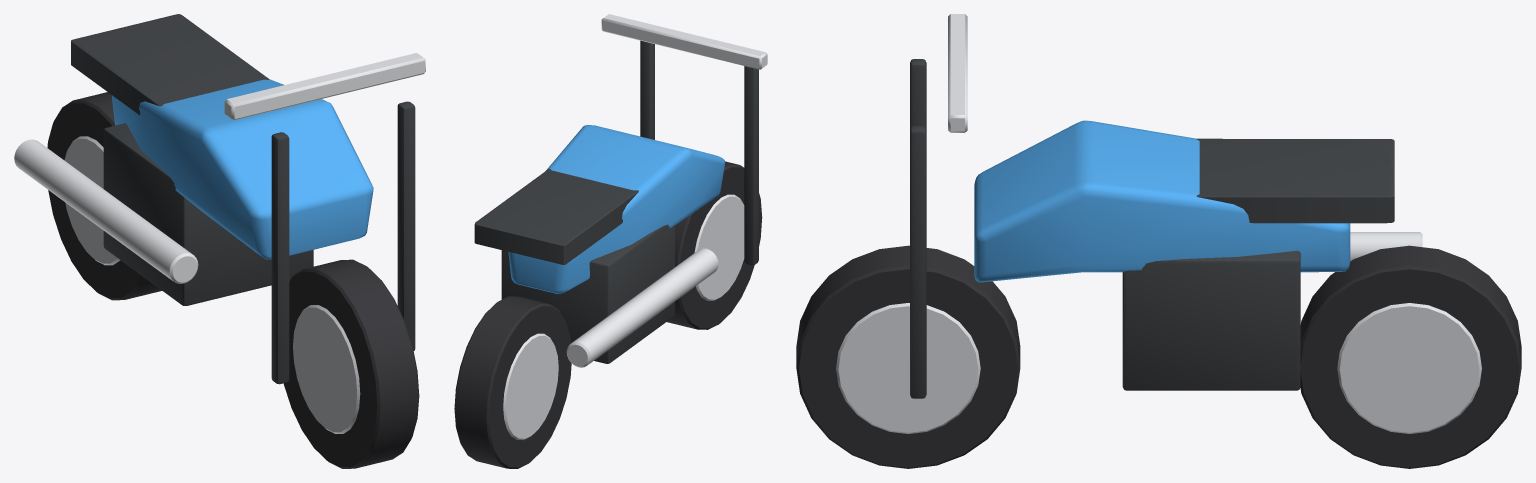
File: tempest-sport.glb
3 views of the same model, side by side, from view 1: azimuth 30°, elevation 25°; view 2: azimuth 150°, elevation 25°; view 3: azimuth 270°, elevation 25° (orthographic). The views are drawn at different scales.
Parts seen in each view (by area): view 1: trim, paint, tyre, rim; view 2: trim, tyre, rim, paint; view 3: tyre, trim, paint, rim.
Boxes of the visible parts, x1,y1,x2,y2 form: trim: [71, 14, 415, 384]; paint: [112, 79, 373, 259]; tyre: [47, 92, 419, 468]; rim: [14, 53, 425, 433]; trim: [474, 40, 758, 363]; tyre: [454, 161, 762, 468]; rim: [503, 14, 767, 440]; paint: [508, 125, 724, 293]; tyre: [796, 245, 1521, 468]; trim: [910, 59, 1394, 398]; paint: [974, 120, 1350, 282]; rim: [836, 14, 1481, 433].
Size of the model in its own units: 0.745 by 1.32 by 2.2.
